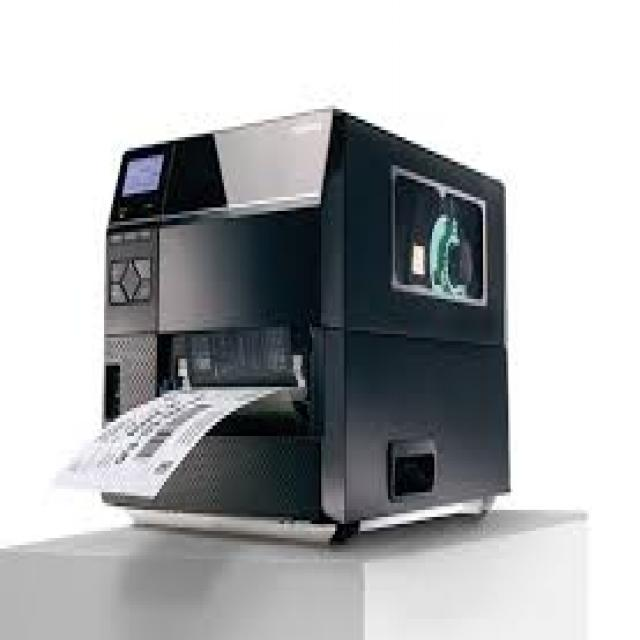printer: (32, 75, 536, 564)
